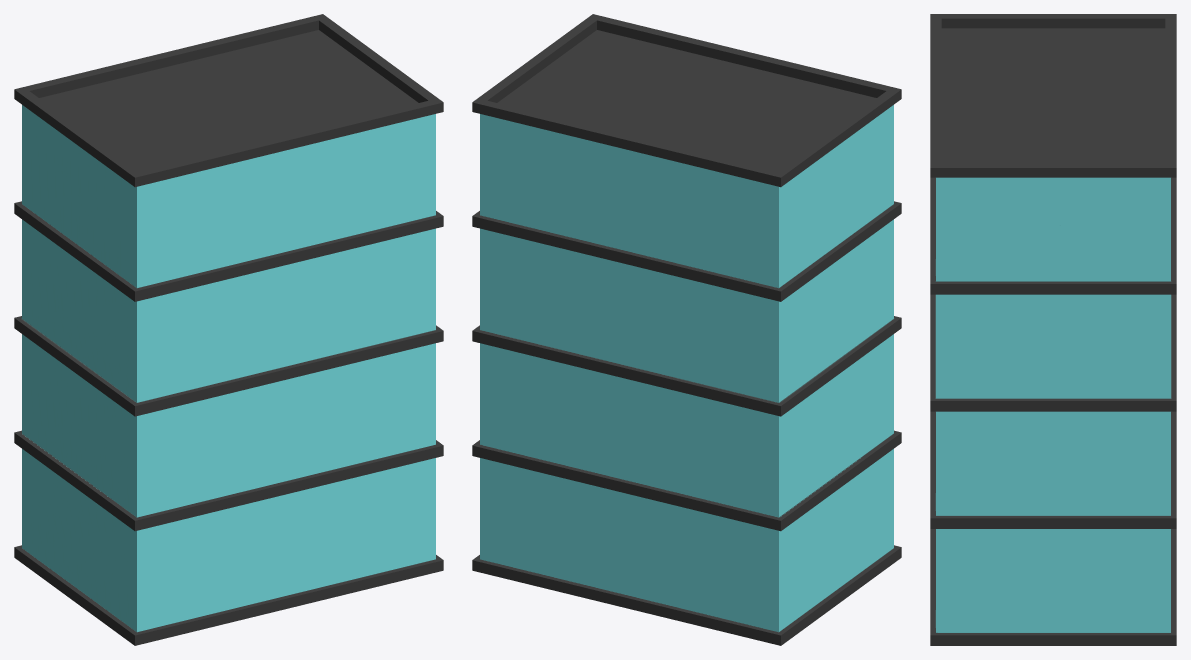
The model's file is LargMed.fbx.
3 views of the same model, side by side, from view 1: azimuth 30°, elevation 25°; view 2: azimuth 150°, elevation 25°; view 3: azimuth 270°, elevation 25° (orthographic). The views are drawn at different scales.
Visible parts, largest first — view 1: LargMedWide; view 2: LargMedWide; view 3: LargMedWide.
Boxes of the visible parts, bbox=[...] form: LargMedWide: bbox=[14, 14, 443, 645]; LargMedWide: bbox=[472, 14, 901, 645]; LargMedWide: bbox=[930, 14, 1176, 645].
Size of the model in its own units: 6.2 by 8.98 by 4.2.
